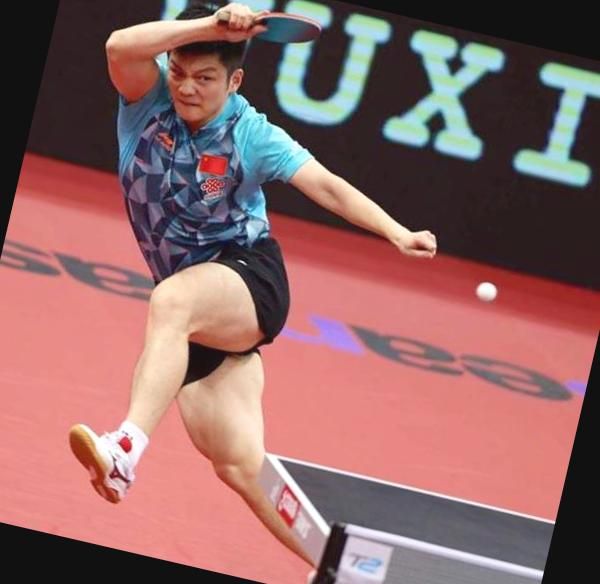ball: (468, 276, 502, 307)
